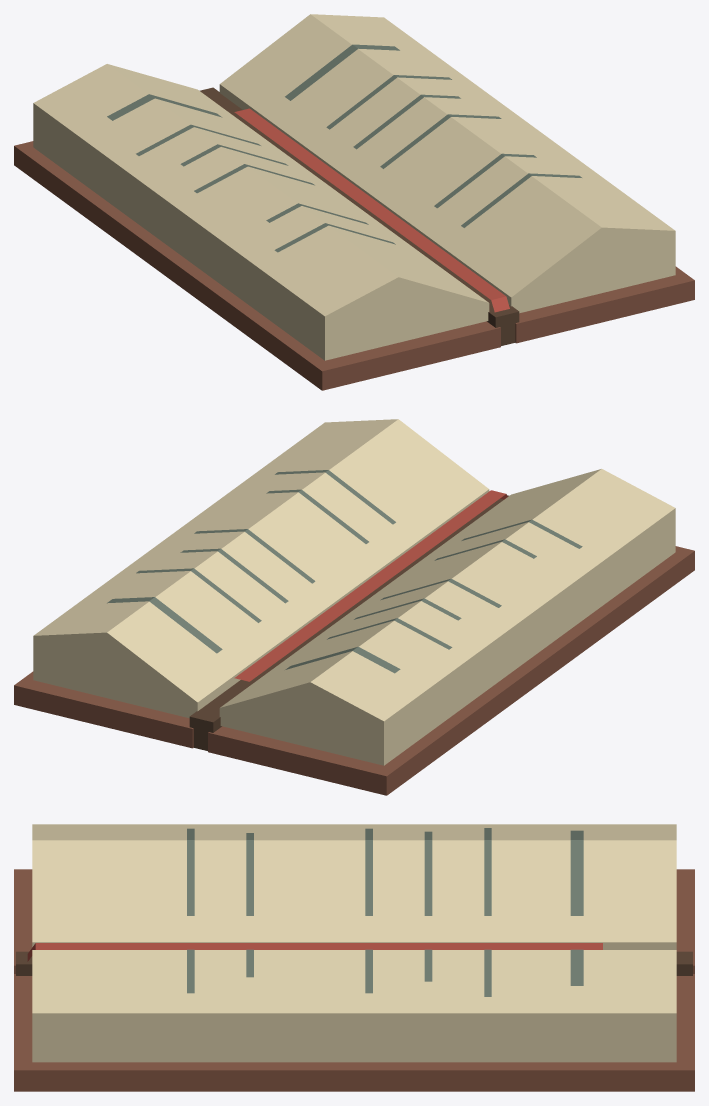
The model's file is ledger.glb.
3 views of the same model, one above another, from view 1: azimuth 30°, elevation 25°; view 2: azimuth 150°, elevation 25°; view 3: azimuth 270°, elevation 25° (orthographic). The views are drawn at different scales.
Visible parts, largest first — view 1: Ledger_warm_pages, Ledger_oxblood_leather, Ledger_faded_ink, Ledger_red_ribbon, Ledger_dark_binding; view 2: Ledger_warm_pages, Ledger_oxblood_leather, Ledger_faded_ink, Ledger_red_ribbon, Ledger_dark_binding; view 3: Ledger_warm_pages, Ledger_oxblood_leather, Ledger_faded_ink, Ledger_red_ribbon, Ledger_dark_binding.
Part boxes in pixels (box(x1,y1,x2,y2)): Ledger_warm_pages: box(33, 14, 675, 360); Ledger_oxblood_leather: box(14, 141, 694, 390); Ledger_faded_ink: box(107, 44, 581, 252); Ledger_red_ribbon: box(234, 108, 509, 312); Ledger_dark_binding: box(199, 87, 519, 345); Ledger_warm_pages: box(33, 419, 675, 765); Ledger_oxblood_leather: box(14, 546, 694, 795); Ledger_faded_ink: box(107, 470, 582, 673); Ledger_red_ribbon: box(234, 490, 507, 681); Ledger_dark_binding: box(189, 495, 509, 750); Ledger_warm_pages: box(32, 824, 676, 1062); Ledger_oxblood_leather: box(14, 869, 694, 1091); Ledger_faded_ink: box(187, 828, 583, 996); Ledger_red_ribbon: box(27, 943, 602, 961); Ledger_dark_binding: box(16, 951, 692, 975).
Bounding box in the file's own units: 0.44 × 0.0985 × 0.63.
